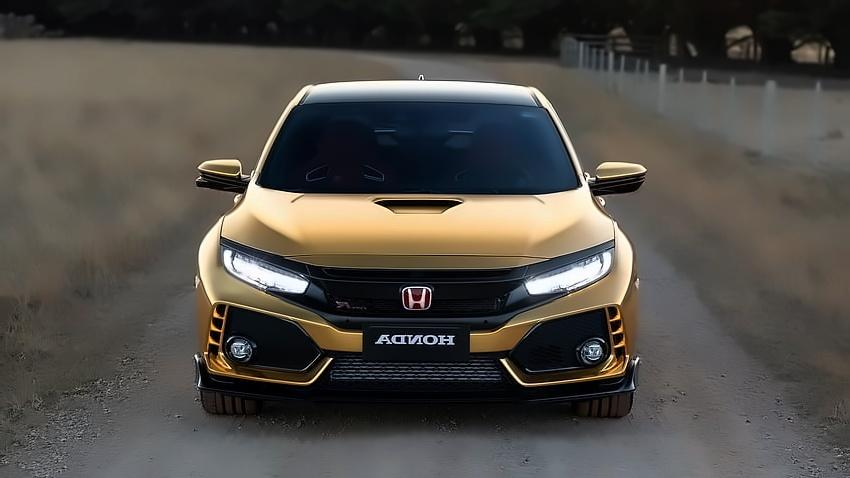Car hood: (219, 181, 613, 271)
Front bumper: (192, 262, 642, 394)
Headlight - -L-: (522, 245, 615, 299)
Headlight - -R-: (221, 237, 310, 299)
Side mirror - -L-: (587, 159, 650, 197)
Side mirror - -R-: (192, 157, 250, 194)
